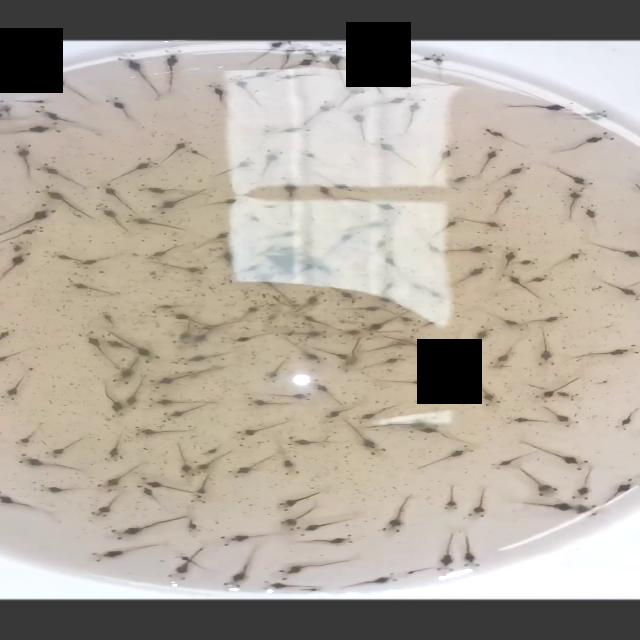shrimp2: (372, 494, 422, 538), (279, 555, 366, 580), (115, 50, 163, 94), (550, 130, 622, 158), (82, 542, 172, 564), (413, 444, 476, 474), (369, 135, 417, 171), (500, 98, 580, 118), (572, 344, 640, 367), (62, 276, 126, 299), (101, 91, 141, 127), (546, 162, 600, 187), (519, 466, 564, 496), (341, 571, 402, 593), (427, 142, 461, 180), (110, 156, 161, 181), (163, 46, 189, 95), (458, 531, 485, 577), (300, 98, 338, 128), (466, 483, 494, 522), (230, 76, 262, 110), (402, 97, 431, 134), (481, 127, 526, 150), (536, 327, 559, 371), (477, 144, 508, 176), (492, 182, 523, 214), (260, 355, 292, 386), (274, 443, 302, 478), (258, 147, 287, 180), (207, 80, 232, 117), (437, 480, 464, 514), (439, 531, 456, 579), (553, 247, 587, 270), (350, 107, 367, 144)
